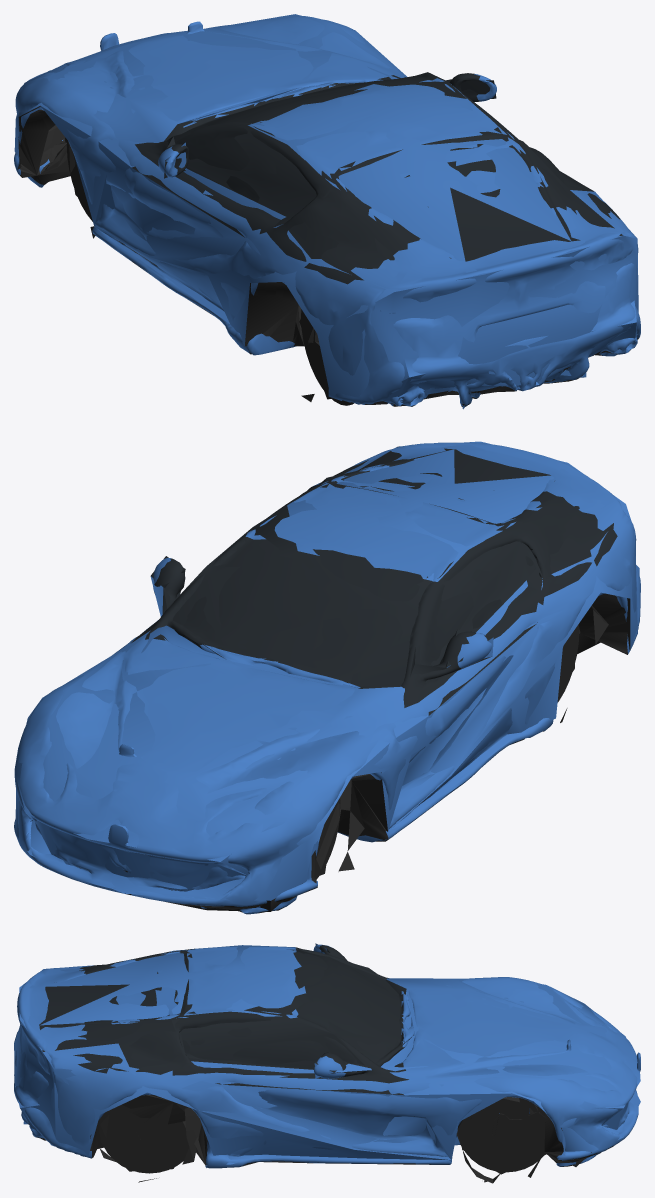
Rendered from ferrari-812-superfast.glb.
3 renders of one model, top to bottom at view 1: azimuth 30°, elevation 25°; view 2: azimuth 150°, elevation 25°; view 3: azimuth 270°, elevation 25°, orthographic. The views are drawn at different scales.
Visible parts, largest first — view 1: body, far; view 2: body, far; view 3: body, far.
Part boxes in pixels (<box>): body: <box>14,16,640,406</box>; far: <box>14,14,638,409</box>; body: <box>14,442,640,914</box>; far: <box>15,441,639,911</box>; body: <box>14,944,640,1183</box>; far: <box>14,943,640,1182</box>.
Size of the model in its own units: 2.16 by 1.35 by 4.68.
